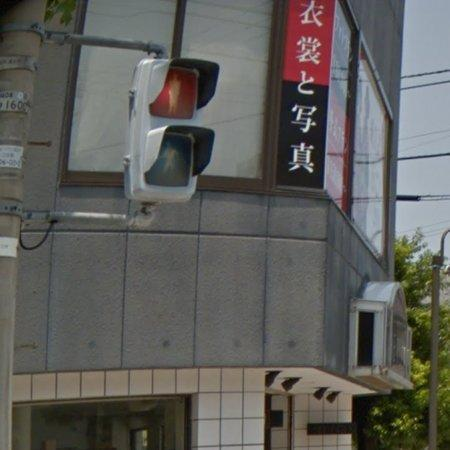traffic lights: (126, 58, 220, 202), (280, 46, 330, 199)
